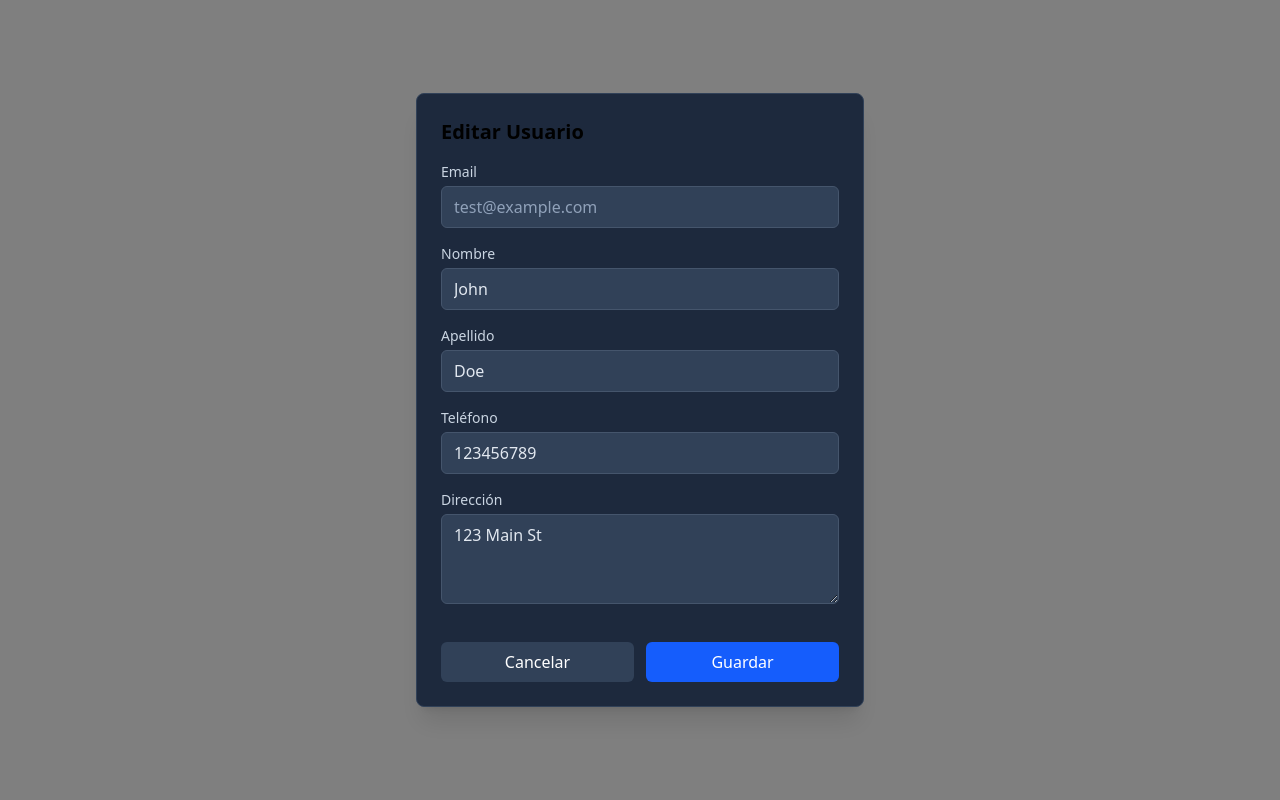
it: EditUserModal › debe mostrar error cuando falla la actualización
This screenshot has width=1280, height=800.
Click the button "Guardar": (742, 662) [646,642,839,682]
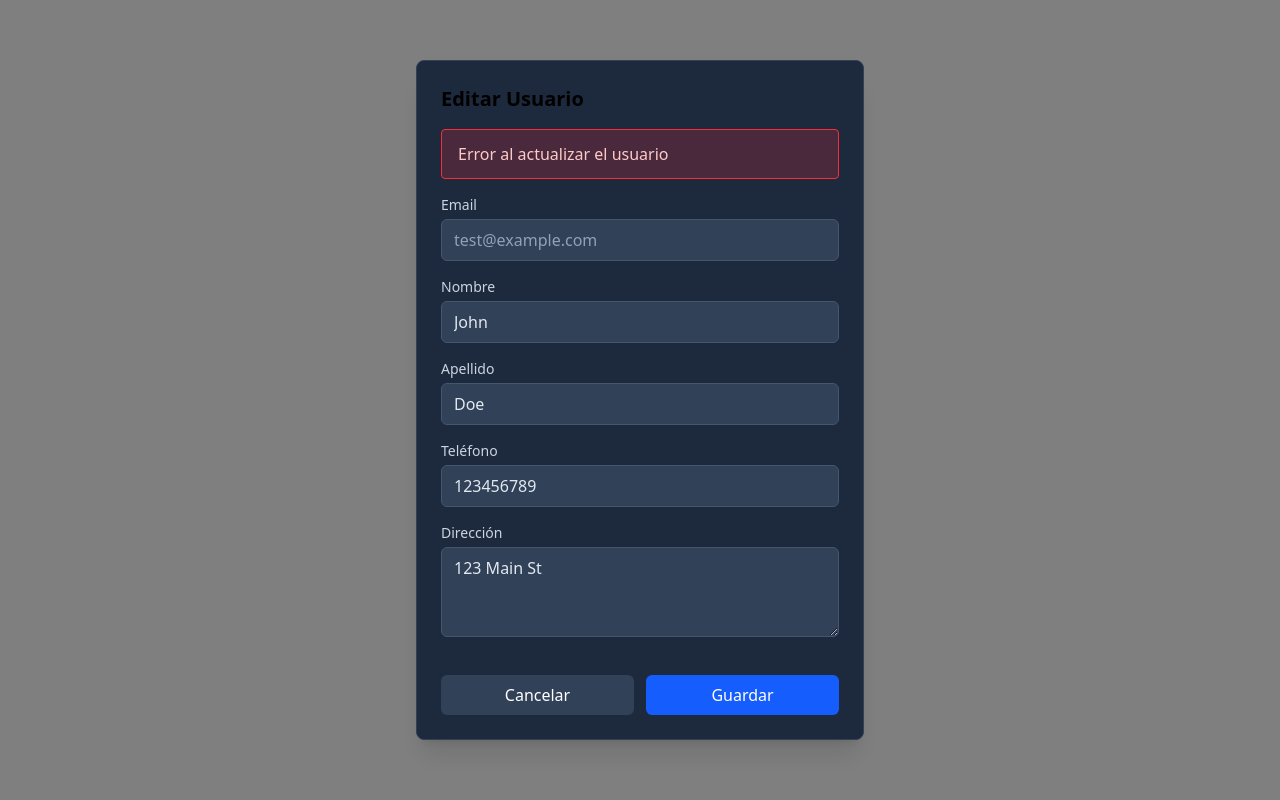
Now the text "Error al actualizar el usuario" is shown, box [441,129,839,179]
